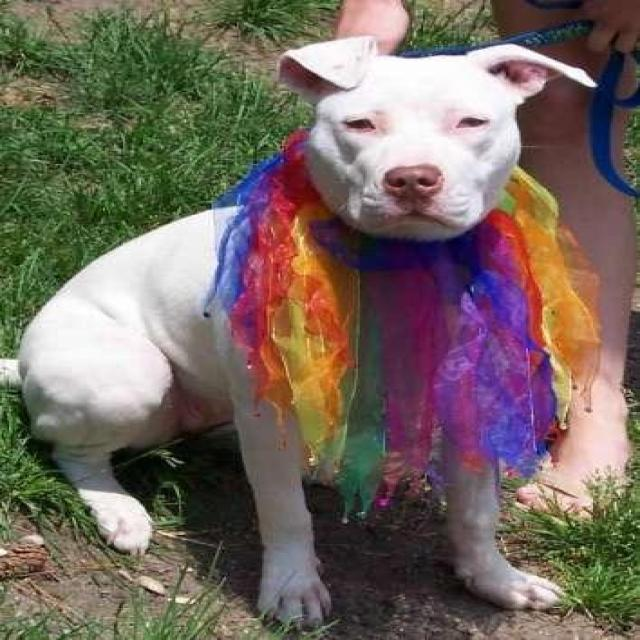Dogs: (0, 33, 606, 630)
